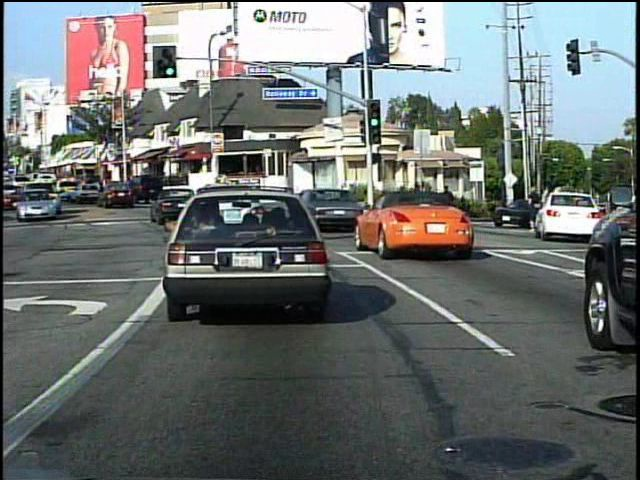person: (521, 179, 545, 240), (439, 183, 455, 223)
